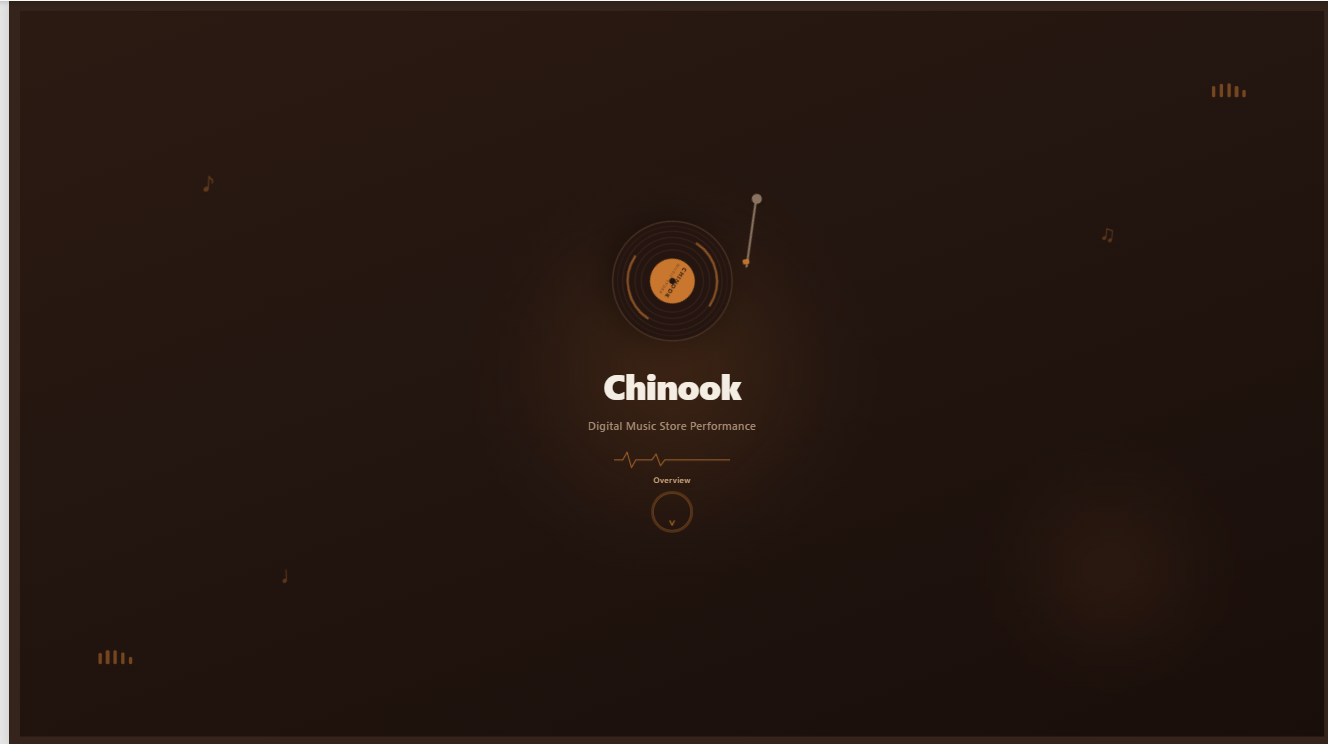

Layout of this report page (visuals, bound fields, positions):
{"tool":"powerbi","page":{"name":"Chinook","canvas":[1920,1080],"ordinal":0},"visuals":[{"type":"htmlContent443BE3AD55E043BF878BED274D3A6855","fields":{"content":["_measure.CoverPageHTML"]},"box":[0,0,1920.1,1080.4],"z":0},{"type":"actionButton","box":[910.3,720.2,100,40],"z":1000}]}

Visuals, with their boxes in screenshot pixels (x1, y1, x2, y2), scaled from the page's 1920x1080 canvas onto the 1328x744 screenshot:
htmlContent443BE3AD55E043BF878BED274D3A6855 - _measure.CoverPageHTML: <box>0,0,1327,743</box>
actionButton: <box>630,496,699,524</box>
